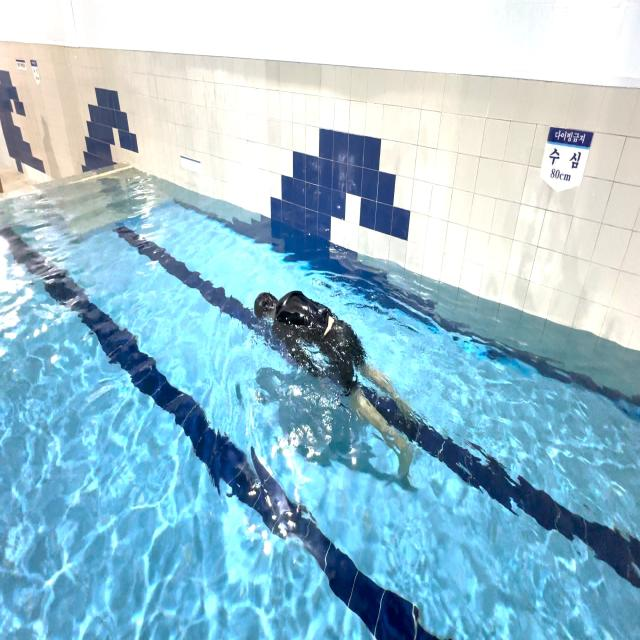Drowning: (248, 275, 424, 486)
